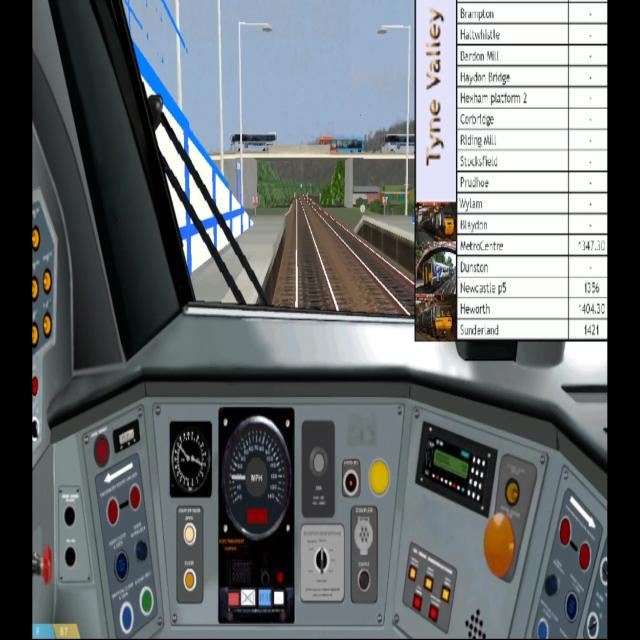Platform: (189, 205, 291, 307), (351, 214, 415, 279)
Spedometer: (217, 406, 297, 626)
Station: (127, 17, 268, 273)
Track: (303, 195, 414, 318), (275, 192, 356, 312)
